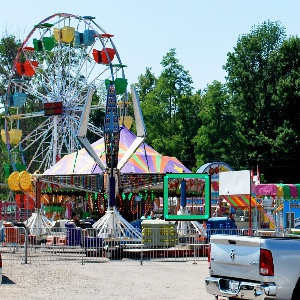square: (162, 171, 211, 222)
